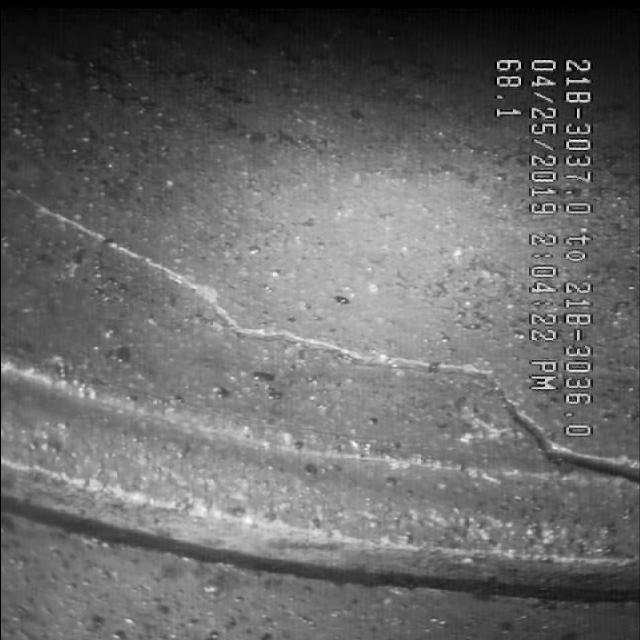Crack: (32, 205, 524, 471)
